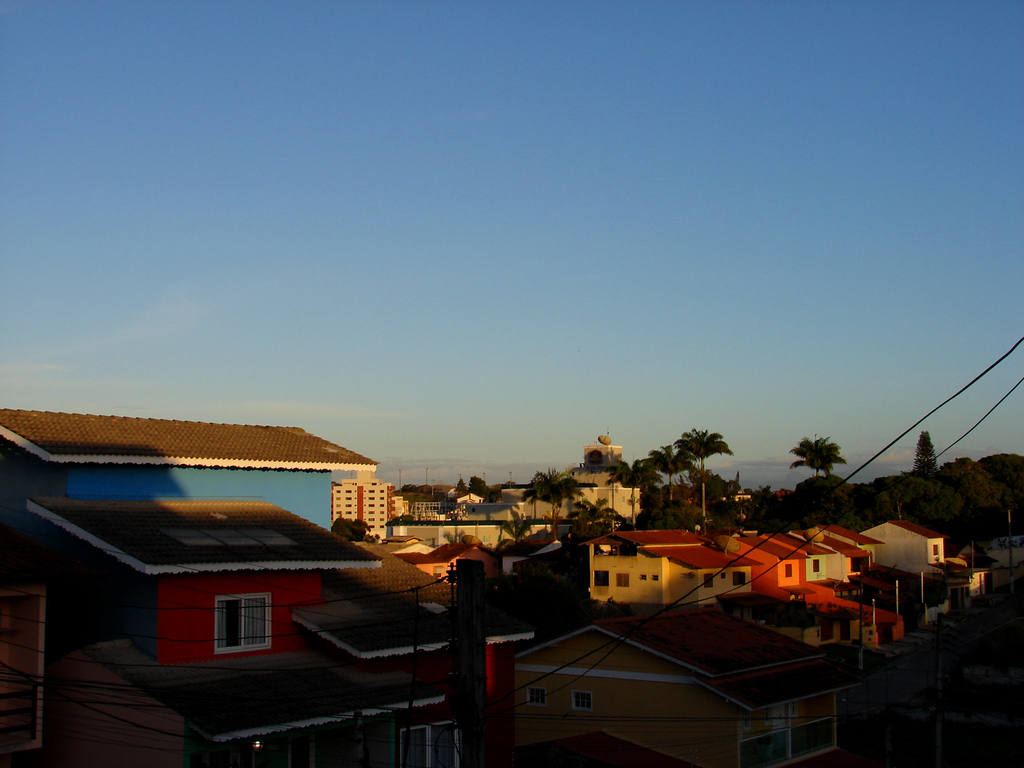Tree: (613, 428, 1023, 546), (493, 571, 609, 636), (526, 464, 583, 533), (566, 497, 620, 537), (448, 476, 499, 506), (332, 515, 369, 541)
